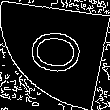O_E: (21, 29, 89, 81)
